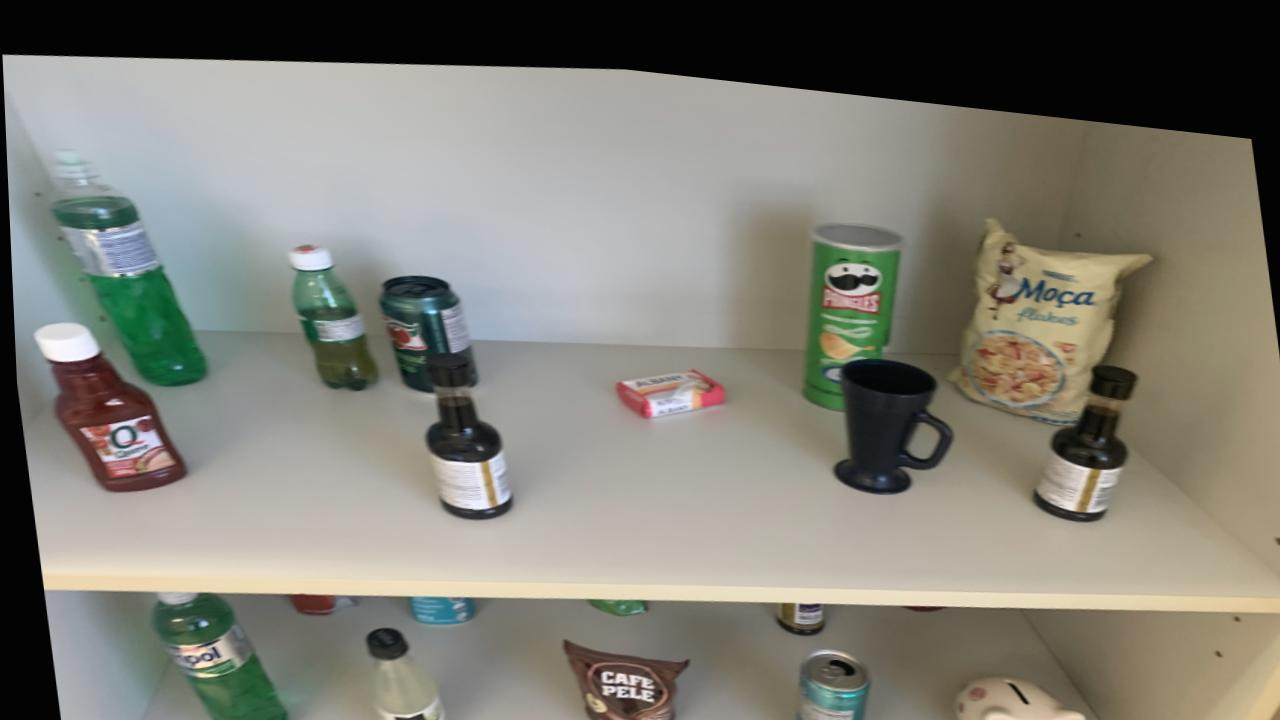Cleaner-Cleanup_Items: (403, 587, 469, 616)
Coffee-Pantry_Items: (557, 627, 683, 720)
Detergent-Cleanup_Items: (48, 149, 204, 382), (145, 589, 282, 720)
English_Sauce-Pantry_Items: (1029, 341, 1134, 497), (421, 343, 508, 508), (771, 585, 820, 617)
Flakes-Snacks: (946, 196, 1151, 399)
Guarana-Drinks: (287, 237, 374, 382)
Guarana_Can-Drinks: (376, 265, 473, 382)
Ketchup-Pantry_Items: (29, 322, 180, 489)
Pig_Safe-Miscellaneous: (950, 653, 1081, 720)
Pringles-Snacks: (799, 203, 900, 390)
Soap-Cleanup_Items: (612, 354, 723, 403)
Soda-Drinks: (361, 619, 438, 720)
Tea-Drinks: (788, 631, 864, 720)
Tomato_Sauce-Pantry_Items: (284, 587, 354, 608)
